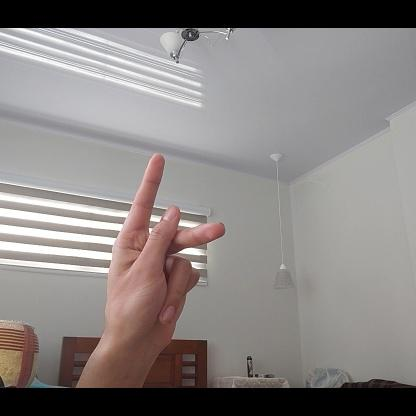K: (100, 151, 225, 353)
